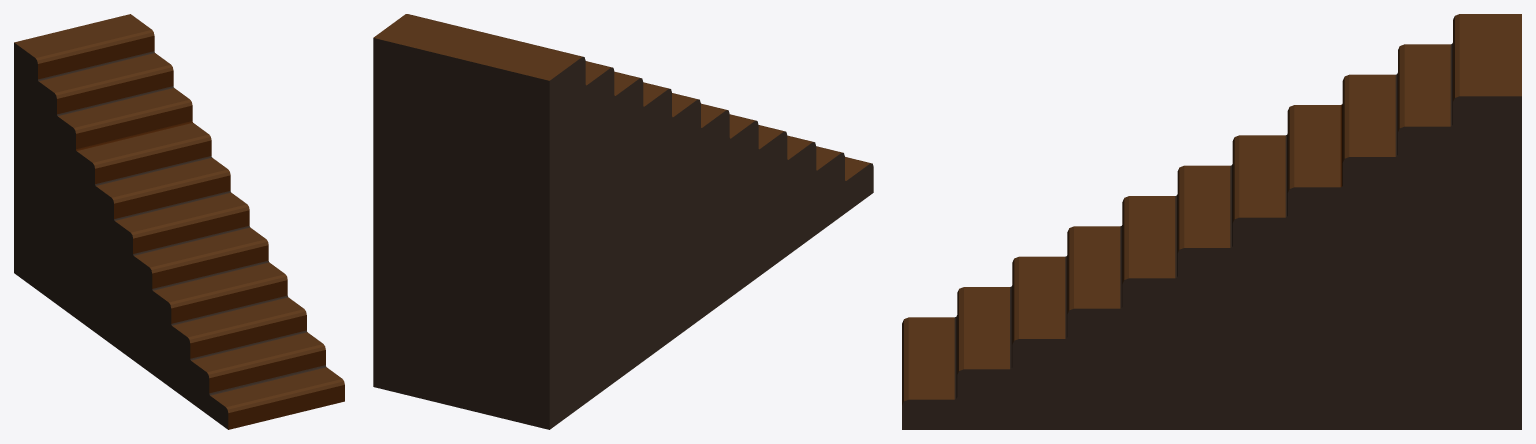
The model's file is Stairs.fbx.
3 renders of one model, left to right at view 1: azimuth 30°, elevation 25°; view 2: azimuth 150°, elevation 25°; view 3: azimuth 270°, elevation 25°, orthographic. The views are drawn at different scales.
Parts seen in each view (by area): view 1: pPlane6; view 2: pPlane6; view 3: pPlane6.
Boxes of the visible parts, x1,y1,x2,y2 form: pPlane6: (14, 14, 344, 429); pPlane6: (373, 14, 873, 429); pPlane6: (902, 14, 1521, 429).
Bounding box in the file's own units: 144 × 272 × 458.
1 material, 1 textured.
